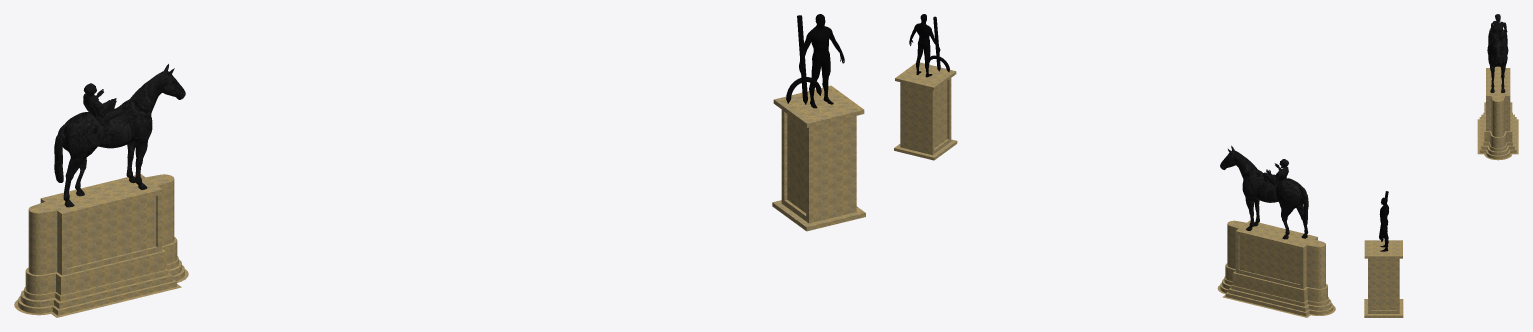
The model's file is statues_high.glb.
3 renders of one model, left to right at view 1: azimuth 30°, elevation 25°; view 2: azimuth 150°, elevation 25°; view 3: azimuth 270°, elevation 25°, orthographic. The views are drawn at different scales.
Visible parts, largest first — view 1: root, skpD9A0, humanBody_, woman5.DWG, Tridente; view 2: root, skpD9A0, humanBody_, woman5.DWG; view 3: root, skpD9A0, humanBody_, woman5.DWG.
Boxes of the visible parts, x1,y1,x2,y2 form: root: (14,85,865,317); skpD9A0: (54,64,185,207); humanBody_: (799,14,844,108); woman5.DWG: (83,83,123,126); Tridente: (786,15,821,104); root: (894,62,1335,317); skpD9A0: (1220,145,1308,239); humanBody_: (909,14,940,77); woman5.DWG: (1263,159,1288,185); root: (1364,66,1518,317); skpD9A0: (1487,29,1508,92); humanBody_: (1379,197,1388,251); woman5.DWG: (1489,14,1507,41).
Bounding box in the file's own units: 30.12 × 8.2 × 9.61.
4 materials, 2 textured.
